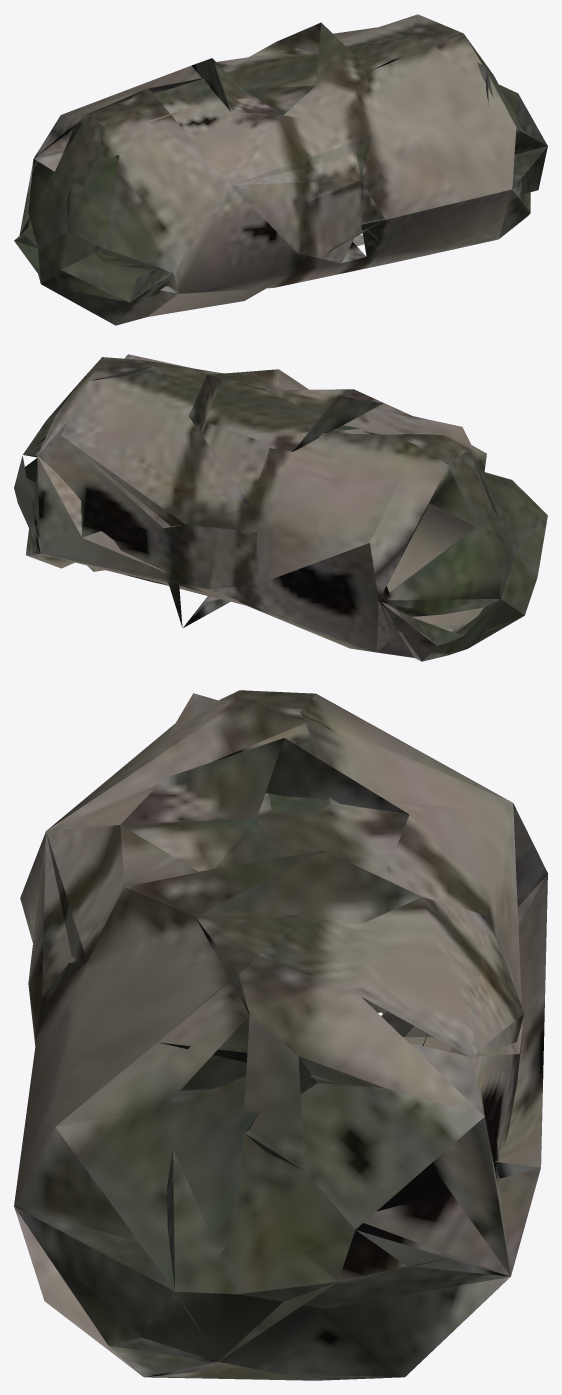
The model's file is sandbags_2136300680_lod1.glb.
3 renders of one model, top to bottom at view 1: azimuth 30°, elevation 25°; view 2: azimuth 150°, elevation 25°; view 3: azimuth 270°, elevation 25°, orthographic. The views are drawn at different scales.
Bounding box in the file's own units: 2.61 × 1.12 × 1.31.
1 material, 1 textured.
